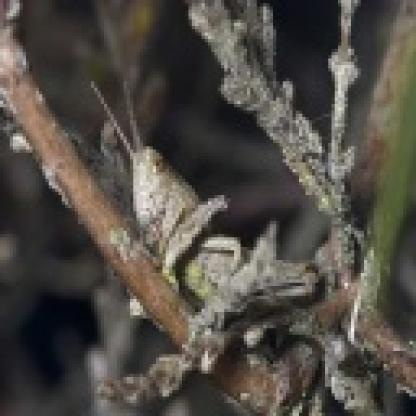grasshopper: (94, 93, 317, 363)
